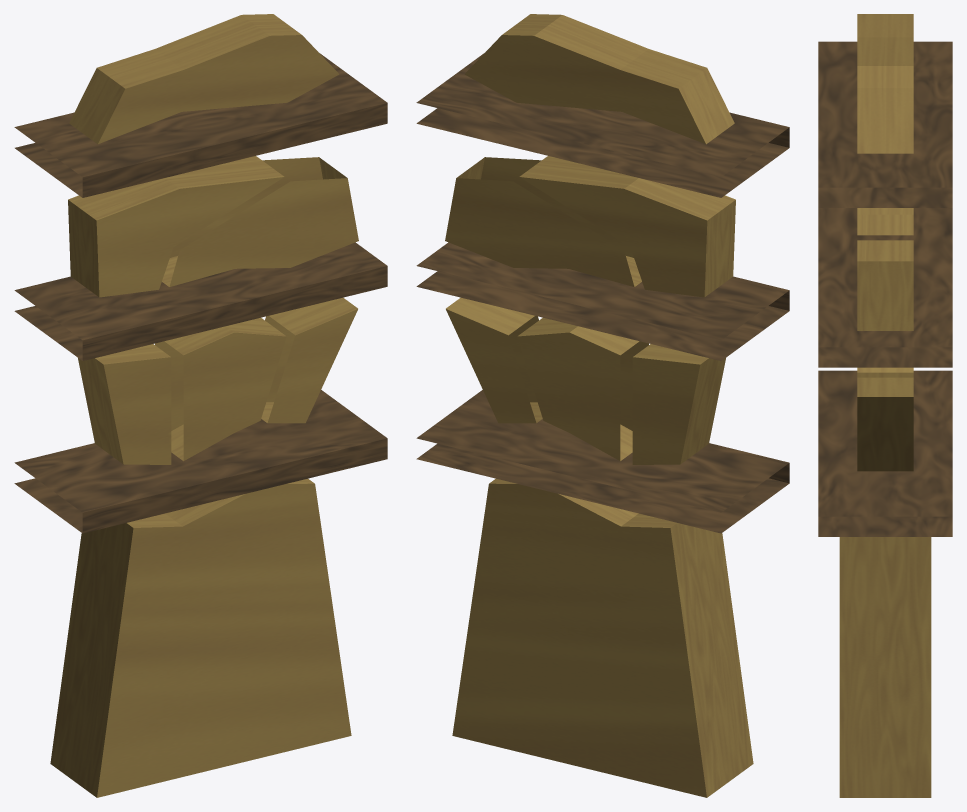
Rendered from rack_b.glb.
3 renders of one model, left to right at view 1: azimuth 30°, elevation 25°; view 2: azimuth 150°, elevation 25°; view 3: azimuth 270°, elevation 25°, orthographic.
Parts seen in each view (by area): view 1: artifact.story.title, rack.b.shelf.1; view 2: artifact.story.title, rack.b.shelf.1; view 3: rack.b.shelf.1, artifact.story.title.
Boxes of the visible parts, x1,y1,x2,y2 form: artifact.story.title: (50, 14, 358, 797); rack.b.shelf.1: (14, 53, 387, 533); artifact.story.title: (445, 14, 753, 797); rack.b.shelf.1: (416, 53, 789, 533); rack.b.shelf.1: (818, 41, 952, 536); artifact.story.title: (839, 14, 931, 797).
Size of the model in its own units: 5.14 by 11.46 by 2.
2 materials, 2 textured.
